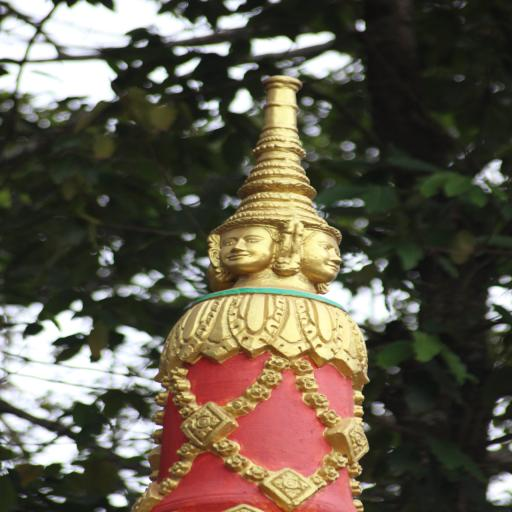hoa: (334, 419, 378, 455), (188, 412, 222, 440), (276, 474, 307, 501)
la: (160, 294, 236, 359), (226, 296, 292, 348), (300, 286, 346, 360), (342, 318, 378, 378)
than: (198, 180, 348, 292)
